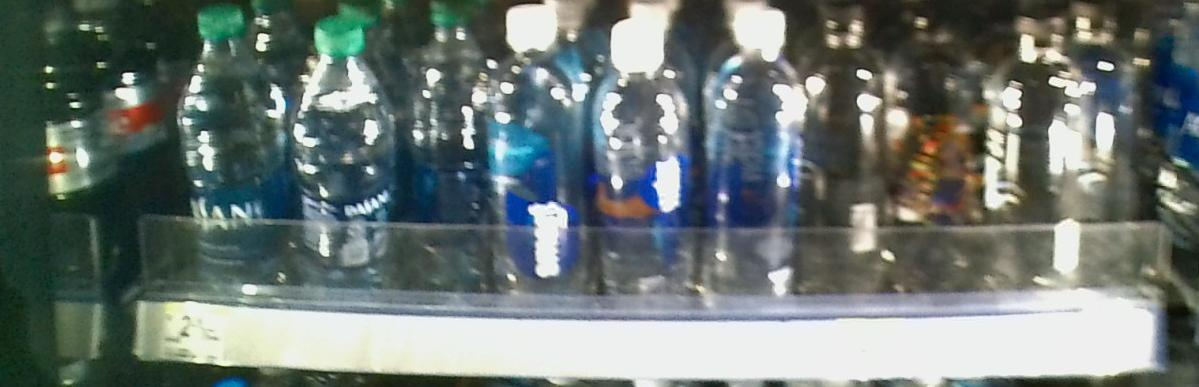bottle: (290, 18, 398, 296), (176, 2, 282, 283), (590, 21, 693, 301), (711, 10, 801, 313), (490, 7, 579, 291), (807, 10, 889, 289), (405, 7, 482, 293)
